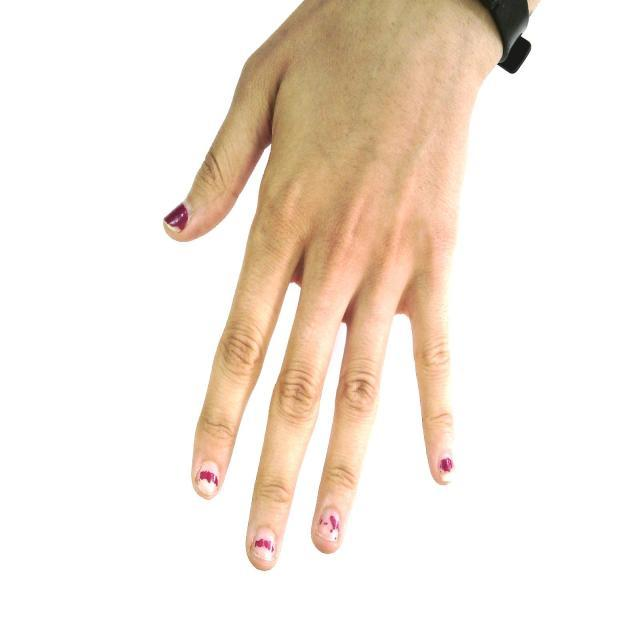Fingernail: (196, 463, 218, 498), (317, 510, 340, 541), (253, 528, 275, 560), (165, 206, 187, 231), (440, 457, 453, 476)
